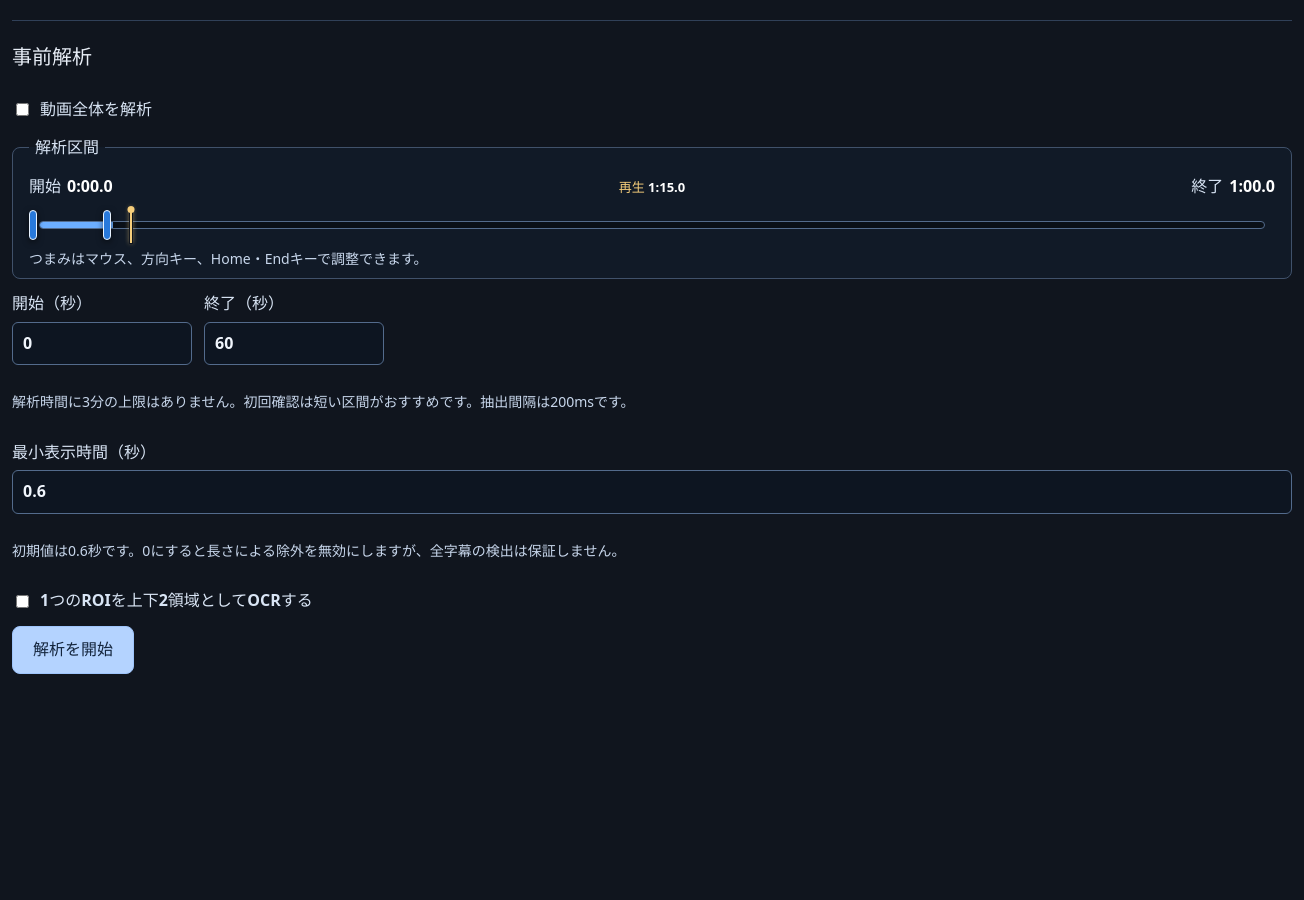
keeps the range thumbs and numeric time fields in sync
Set the slider named "解析開始" to "12.3" at {"x": 52, "y": 225}, box [29,204,1275,246]
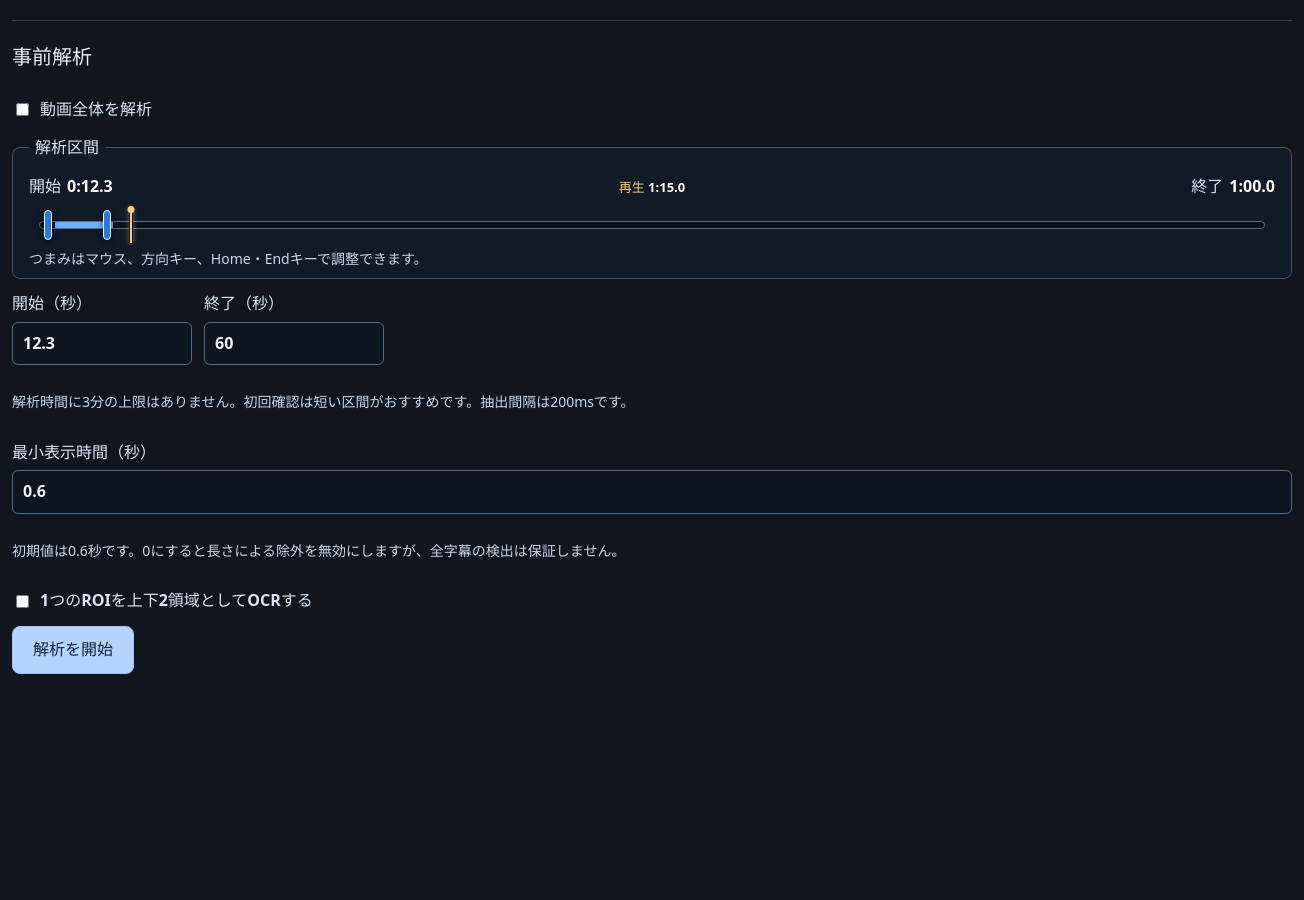
Set the slider named "解析終了" to "900.4" at {"x": 1144, "y": 225}, box [29,204,1275,246]
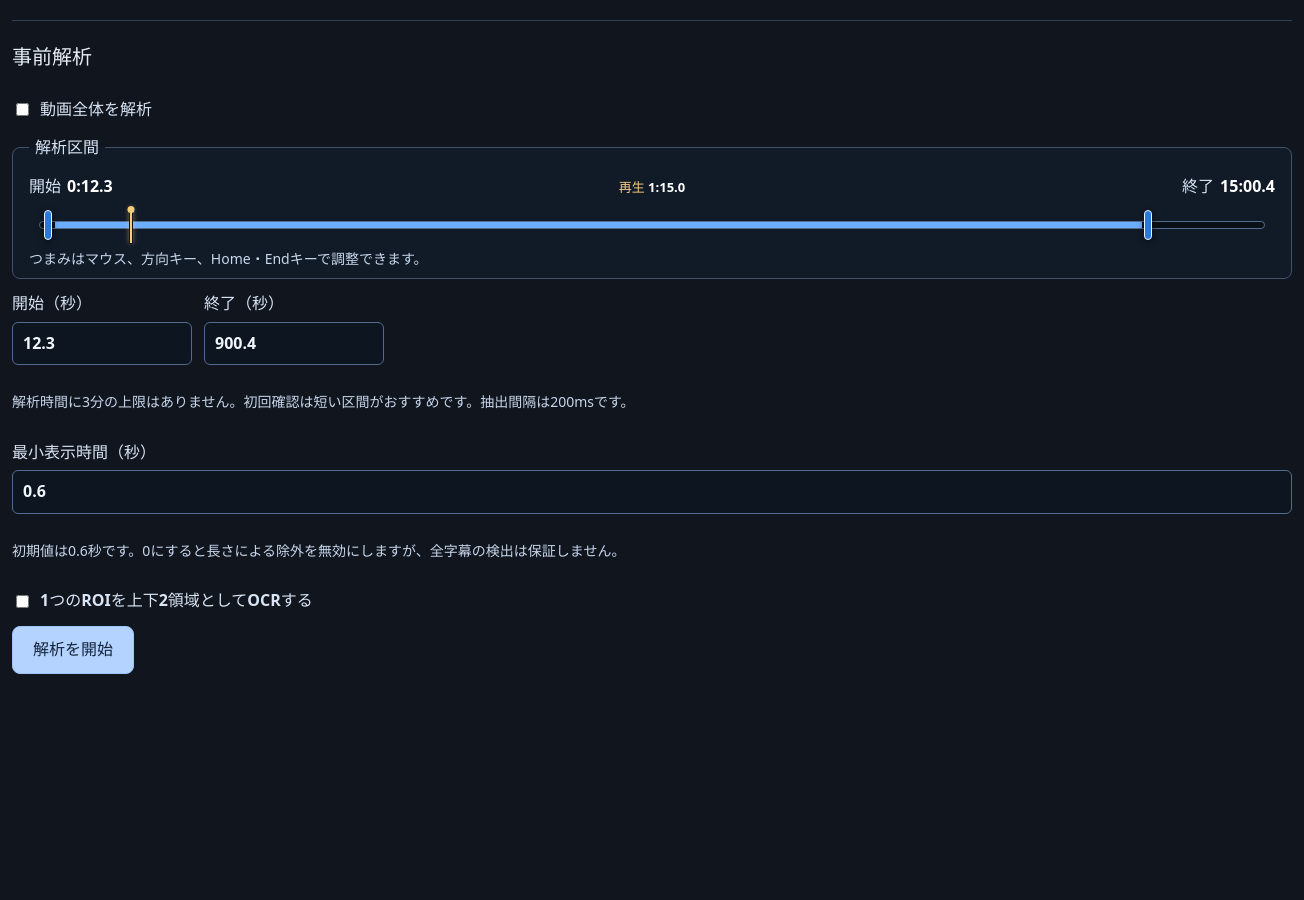
expect the number field labelled "開始（秒）" holds "12.3": met
expect the number field labelled "終了（秒）" holds "900.4": met, box [204,322,384,365]
Replace the text in the number field labelled "開始（秒）" with "20.5" at {"x": 102, "y": 344}, box [12,322,192,365]
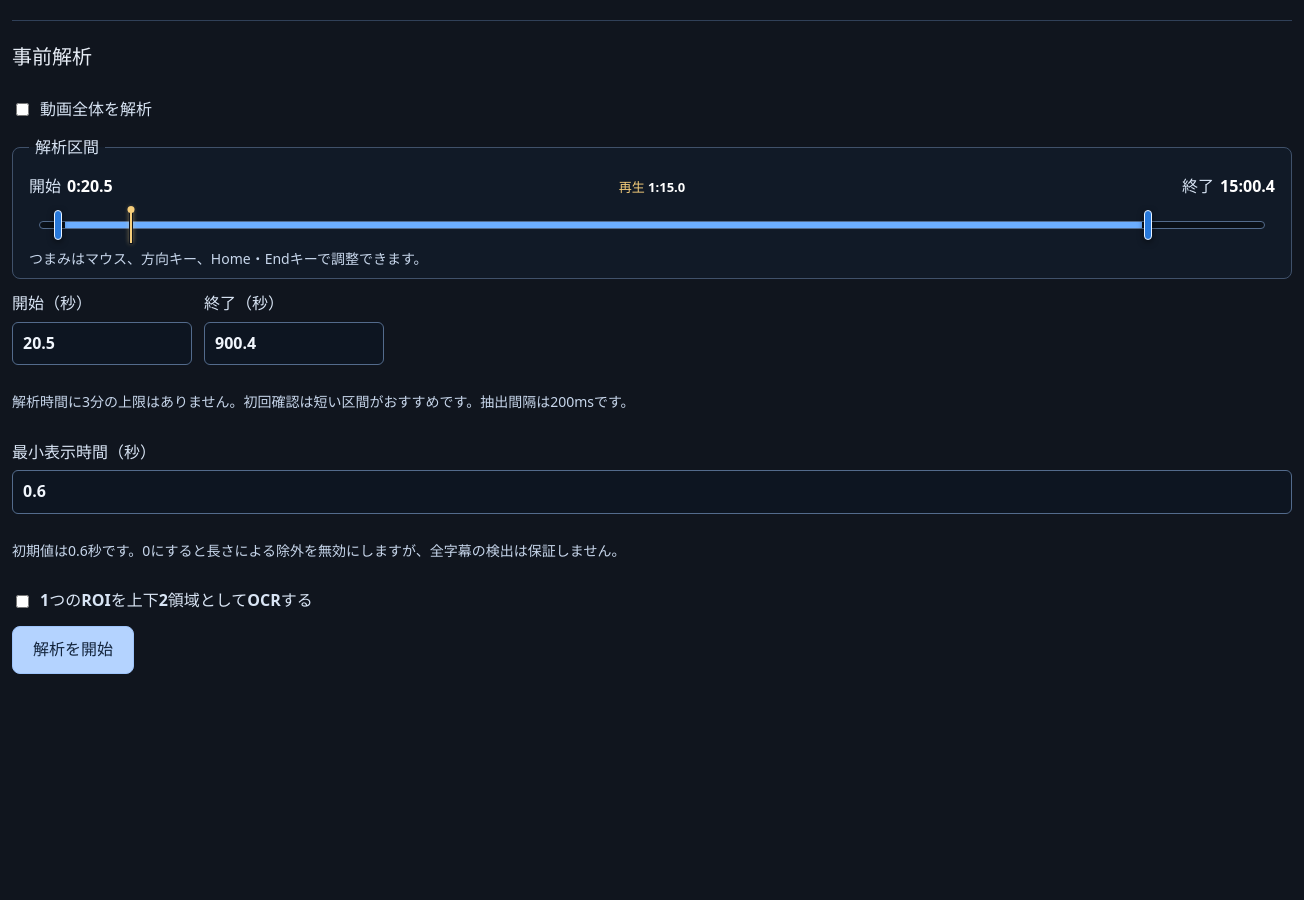
Replace the text in the number field labelled "終了（秒）" with "800.6" at {"x": 294, "y": 344}, box [204,322,384,365]
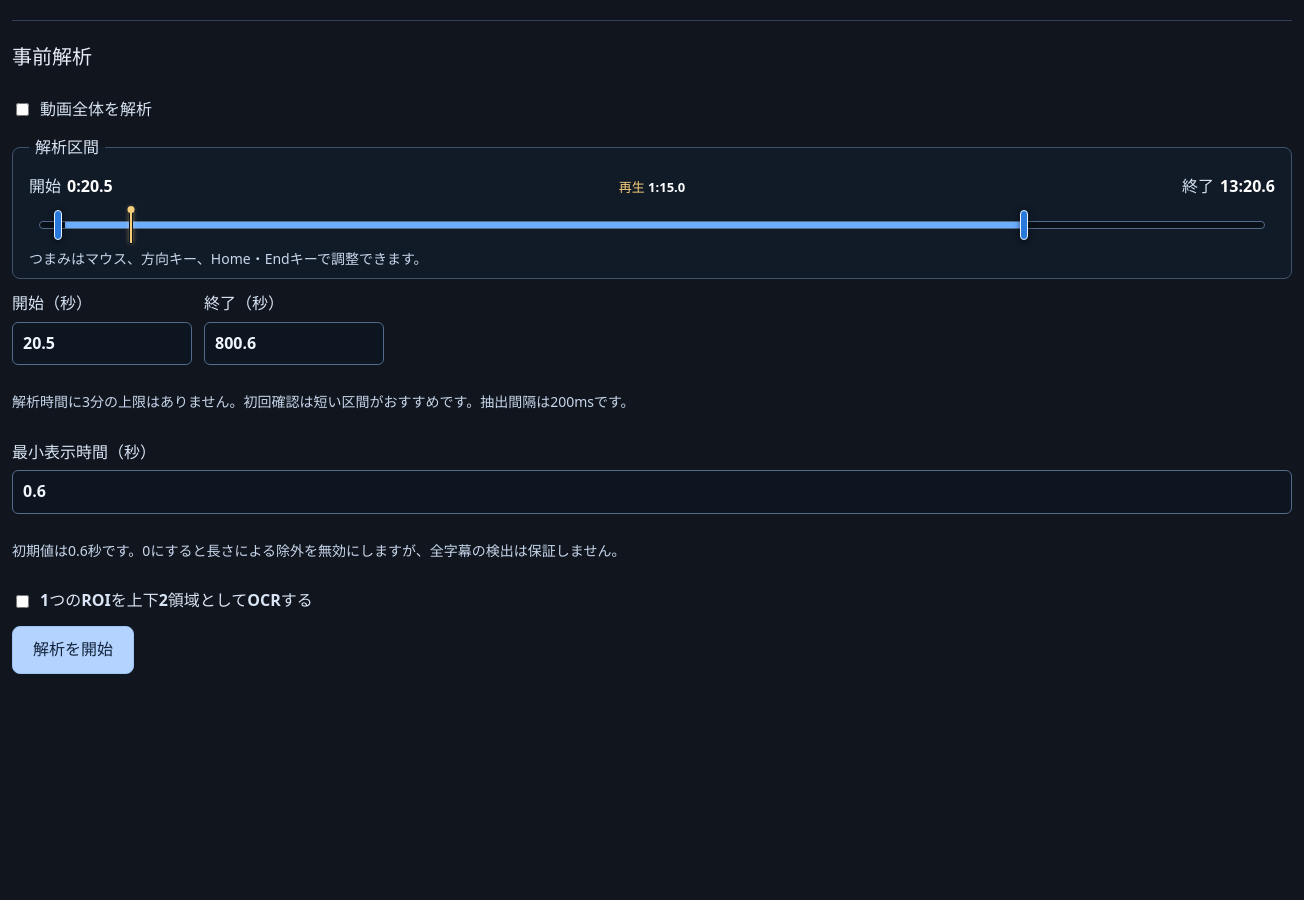
expect the slider named "解析開始" holds "20.5": met, box [29,204,1275,246]
expect the slider named "解析終了" holds "800.6": met, box [29,204,1275,246]
